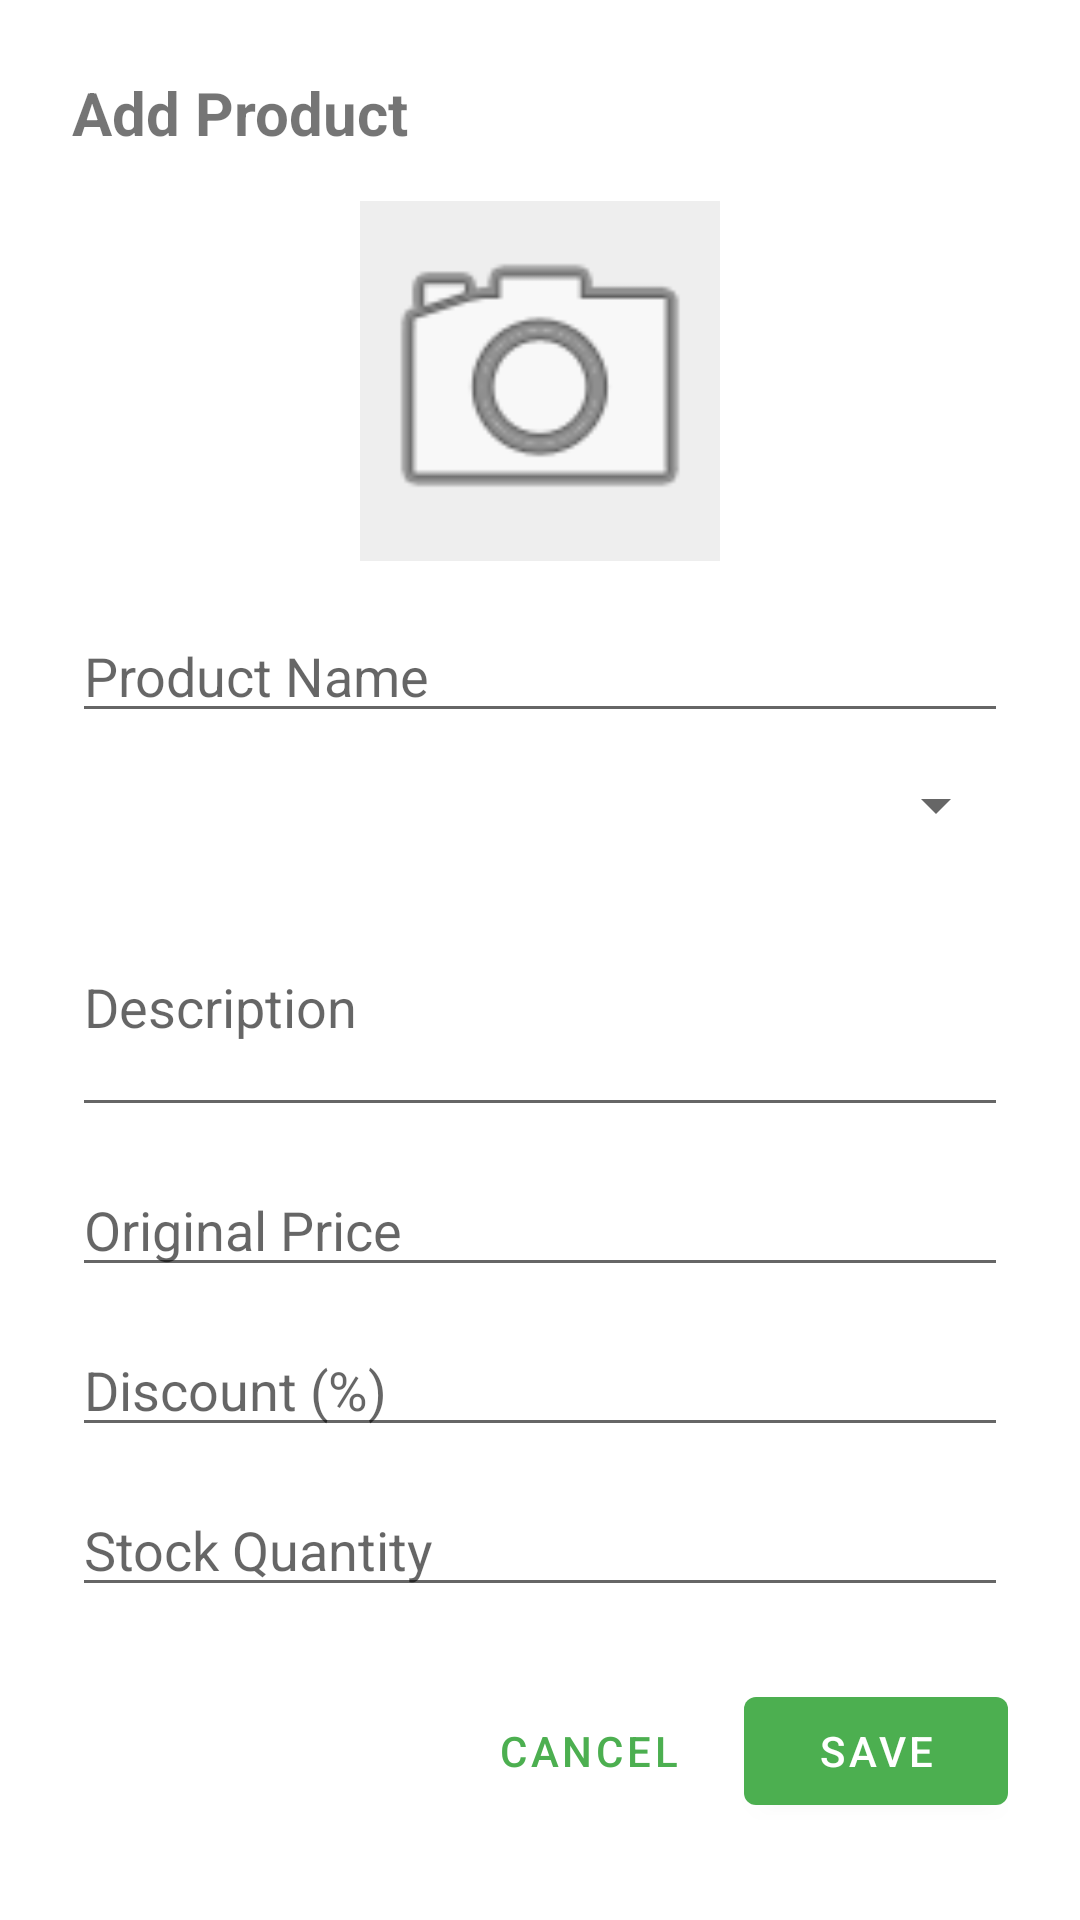

Where to tap for icons on this 1080×1920 app screen, as [x,y]:
camera: [540,381]
